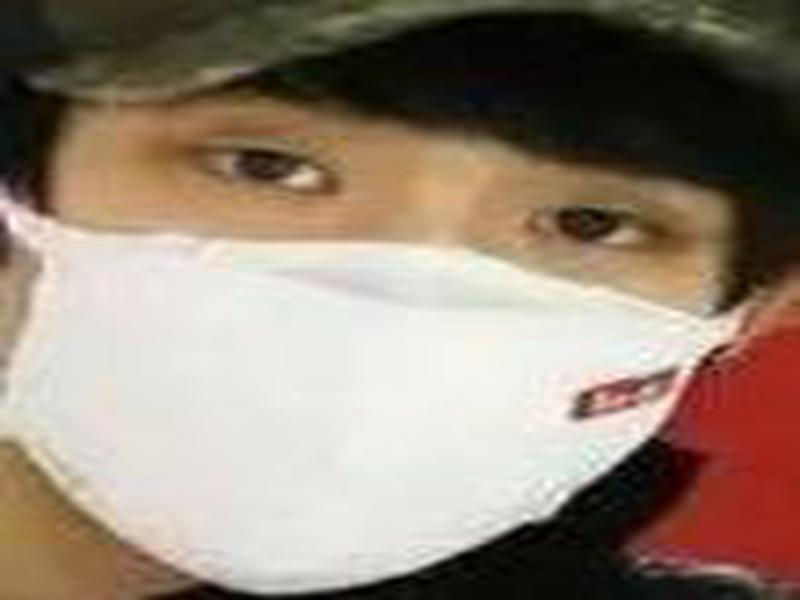with_mask: (1, 101, 750, 600)
